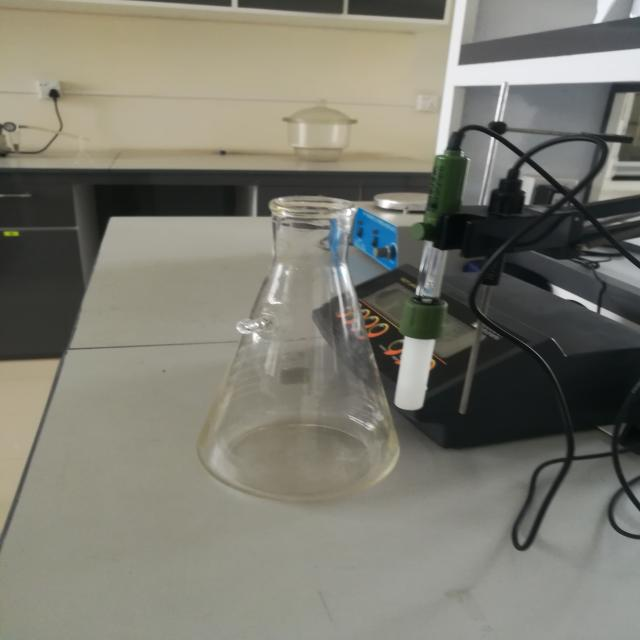Conical_Flask: (156, 160, 450, 523)
